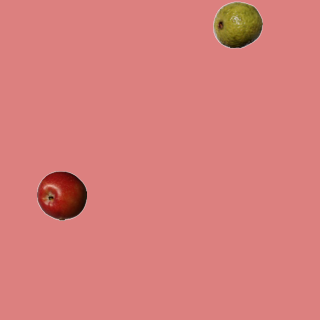Apple Braeburn: (36, 170, 86, 220)
Guava: (212, 0, 262, 49)
